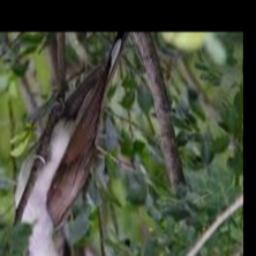Cuckoo: (16, 34, 126, 256)
